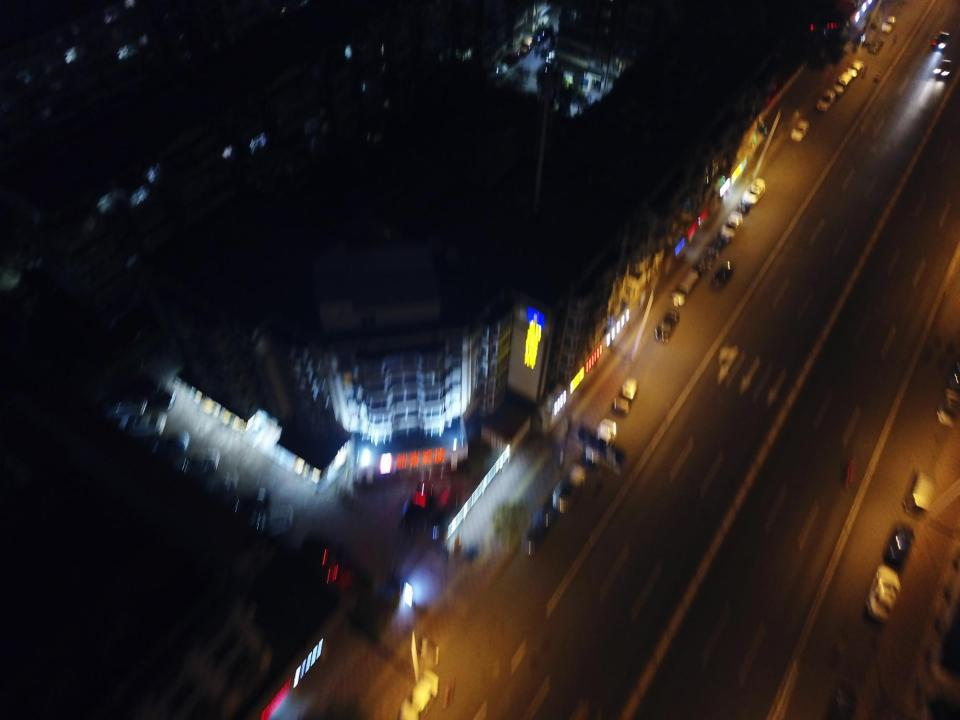car: (864, 564, 901, 620), (520, 506, 559, 556), (550, 467, 589, 517), (882, 524, 916, 568), (587, 417, 617, 455), (654, 307, 680, 343), (708, 259, 734, 293), (720, 211, 743, 241), (706, 229, 729, 259), (742, 177, 766, 204), (790, 117, 811, 143), (816, 88, 837, 113), (931, 30, 950, 56), (933, 58, 953, 82), (618, 377, 638, 400)
van: (903, 466, 934, 522)
